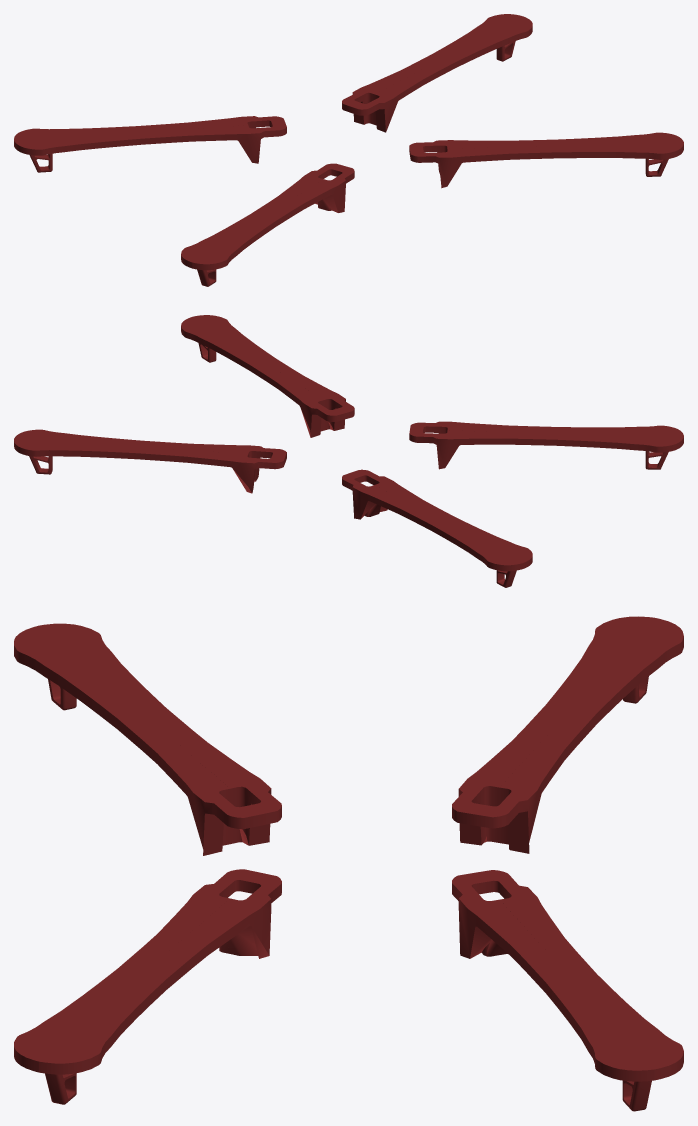
Rendered from copter_solid_arms.dae.
3 views of the same model, one above another, from view 1: azimuth 30°, elevation 25°; view 2: azimuth 150°, elevation 25°; view 3: azimuth 270°, elevation 25° (orthographic). The views are drawn at different scales.
Parts seen in each view (by area): view 1: Arm (×2); view 2: Arm (×2), Standfuß; view 3: Arm (×2), Standfuß (×2).
Boxes of the visible parts, left/top/right/bottom form: Arm (×2): left=14, top=14, right=683, bottom=270; Arm (×2): left=14, top=315, right=683, bottom=571; Standfuß: left=29, top=456, right=516, bottom=587; Arm (×2): left=14, top=616, right=683, bottom=1081; Standfuß (×2): left=45, top=676, right=651, bottom=1111.
Bounding box in the file's own units: 965 × 58 × 601.
